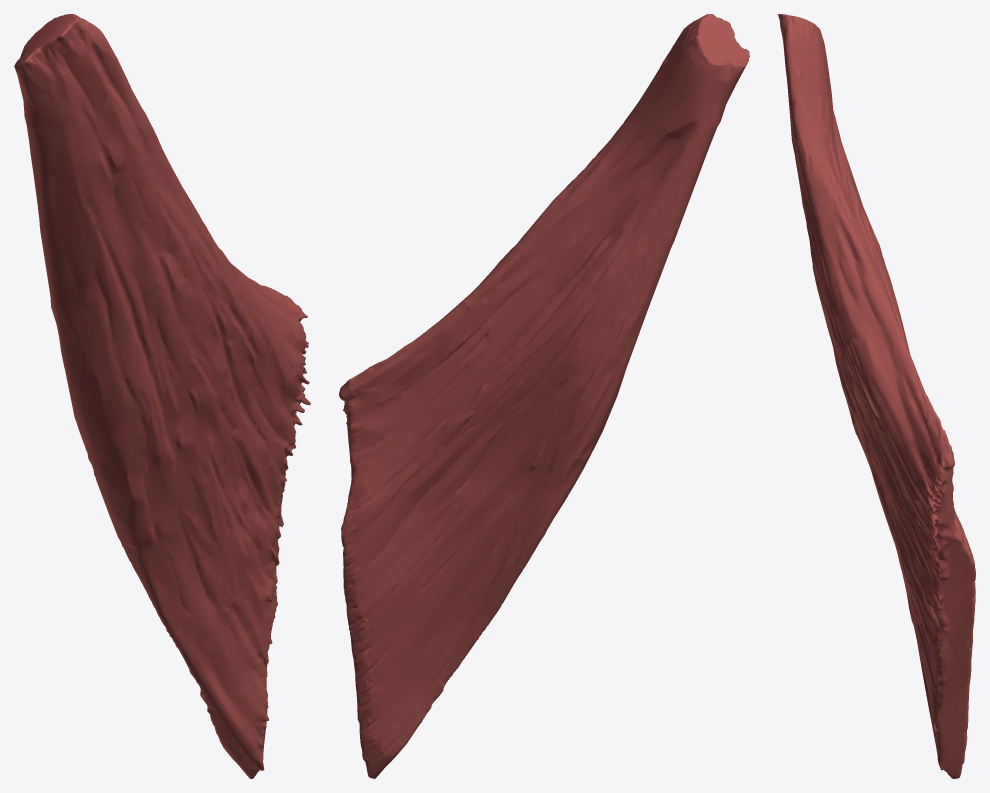
The model's file is FMA22454.glb.
3 renders of one model, left to right at view 1: azimuth 30°, elevation 25°; view 2: azimuth 150°, elevation 25°; view 3: azimuth 270°, elevation 25°, orthographic. The views are drawn at different scales.
Parts seen in each view (by area): view 1: FMA22454; view 2: FMA22454; view 3: FMA22454.
Boxes of the visible parts, x1=… form: FMA22454: x1=14, y1=14, x2=310, y2=778; FMA22454: x1=339, y1=14, x2=749, y2=778; FMA22454: x1=778, y1=14, x2=975, y2=778.
Bounding box in the file's own units: 0.0766 × 0.1706 × 0.0462.
